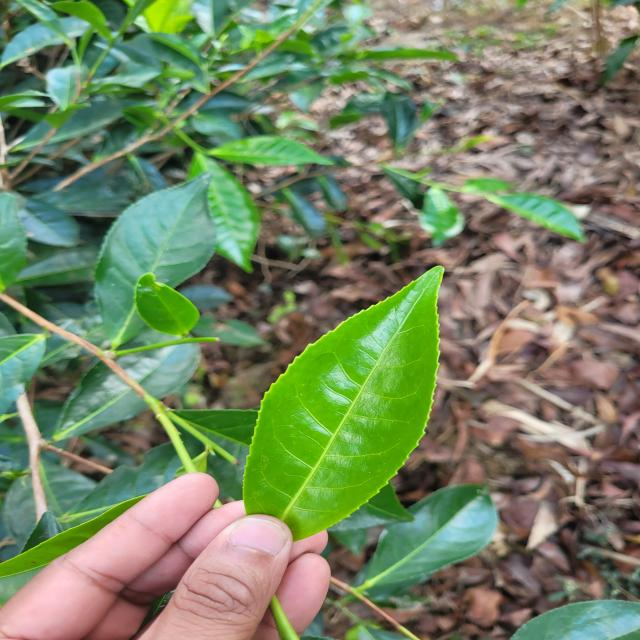Category D 7+ days, Not for Tea: (231, 242, 457, 552)
